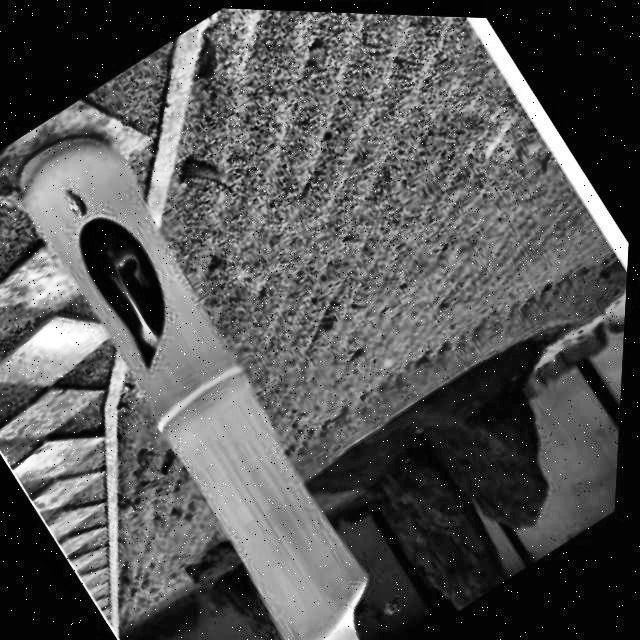Fire: (66, 210, 192, 352)
